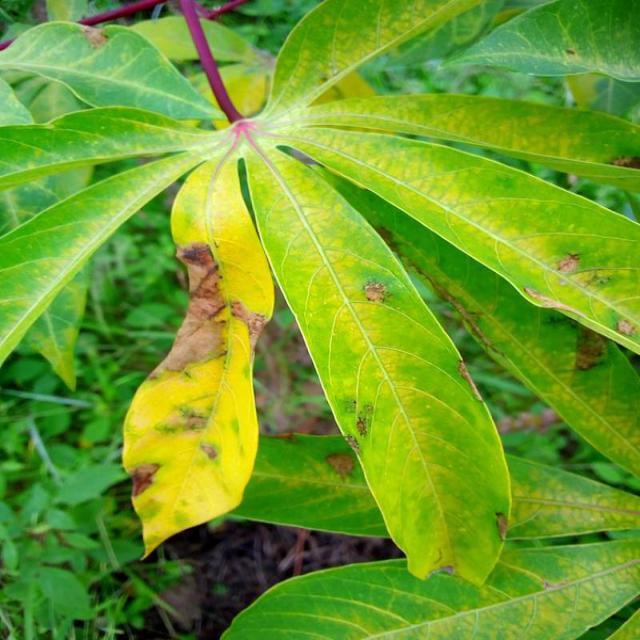cassava leaf: (0, 1, 638, 607), (235, 138, 513, 586)
